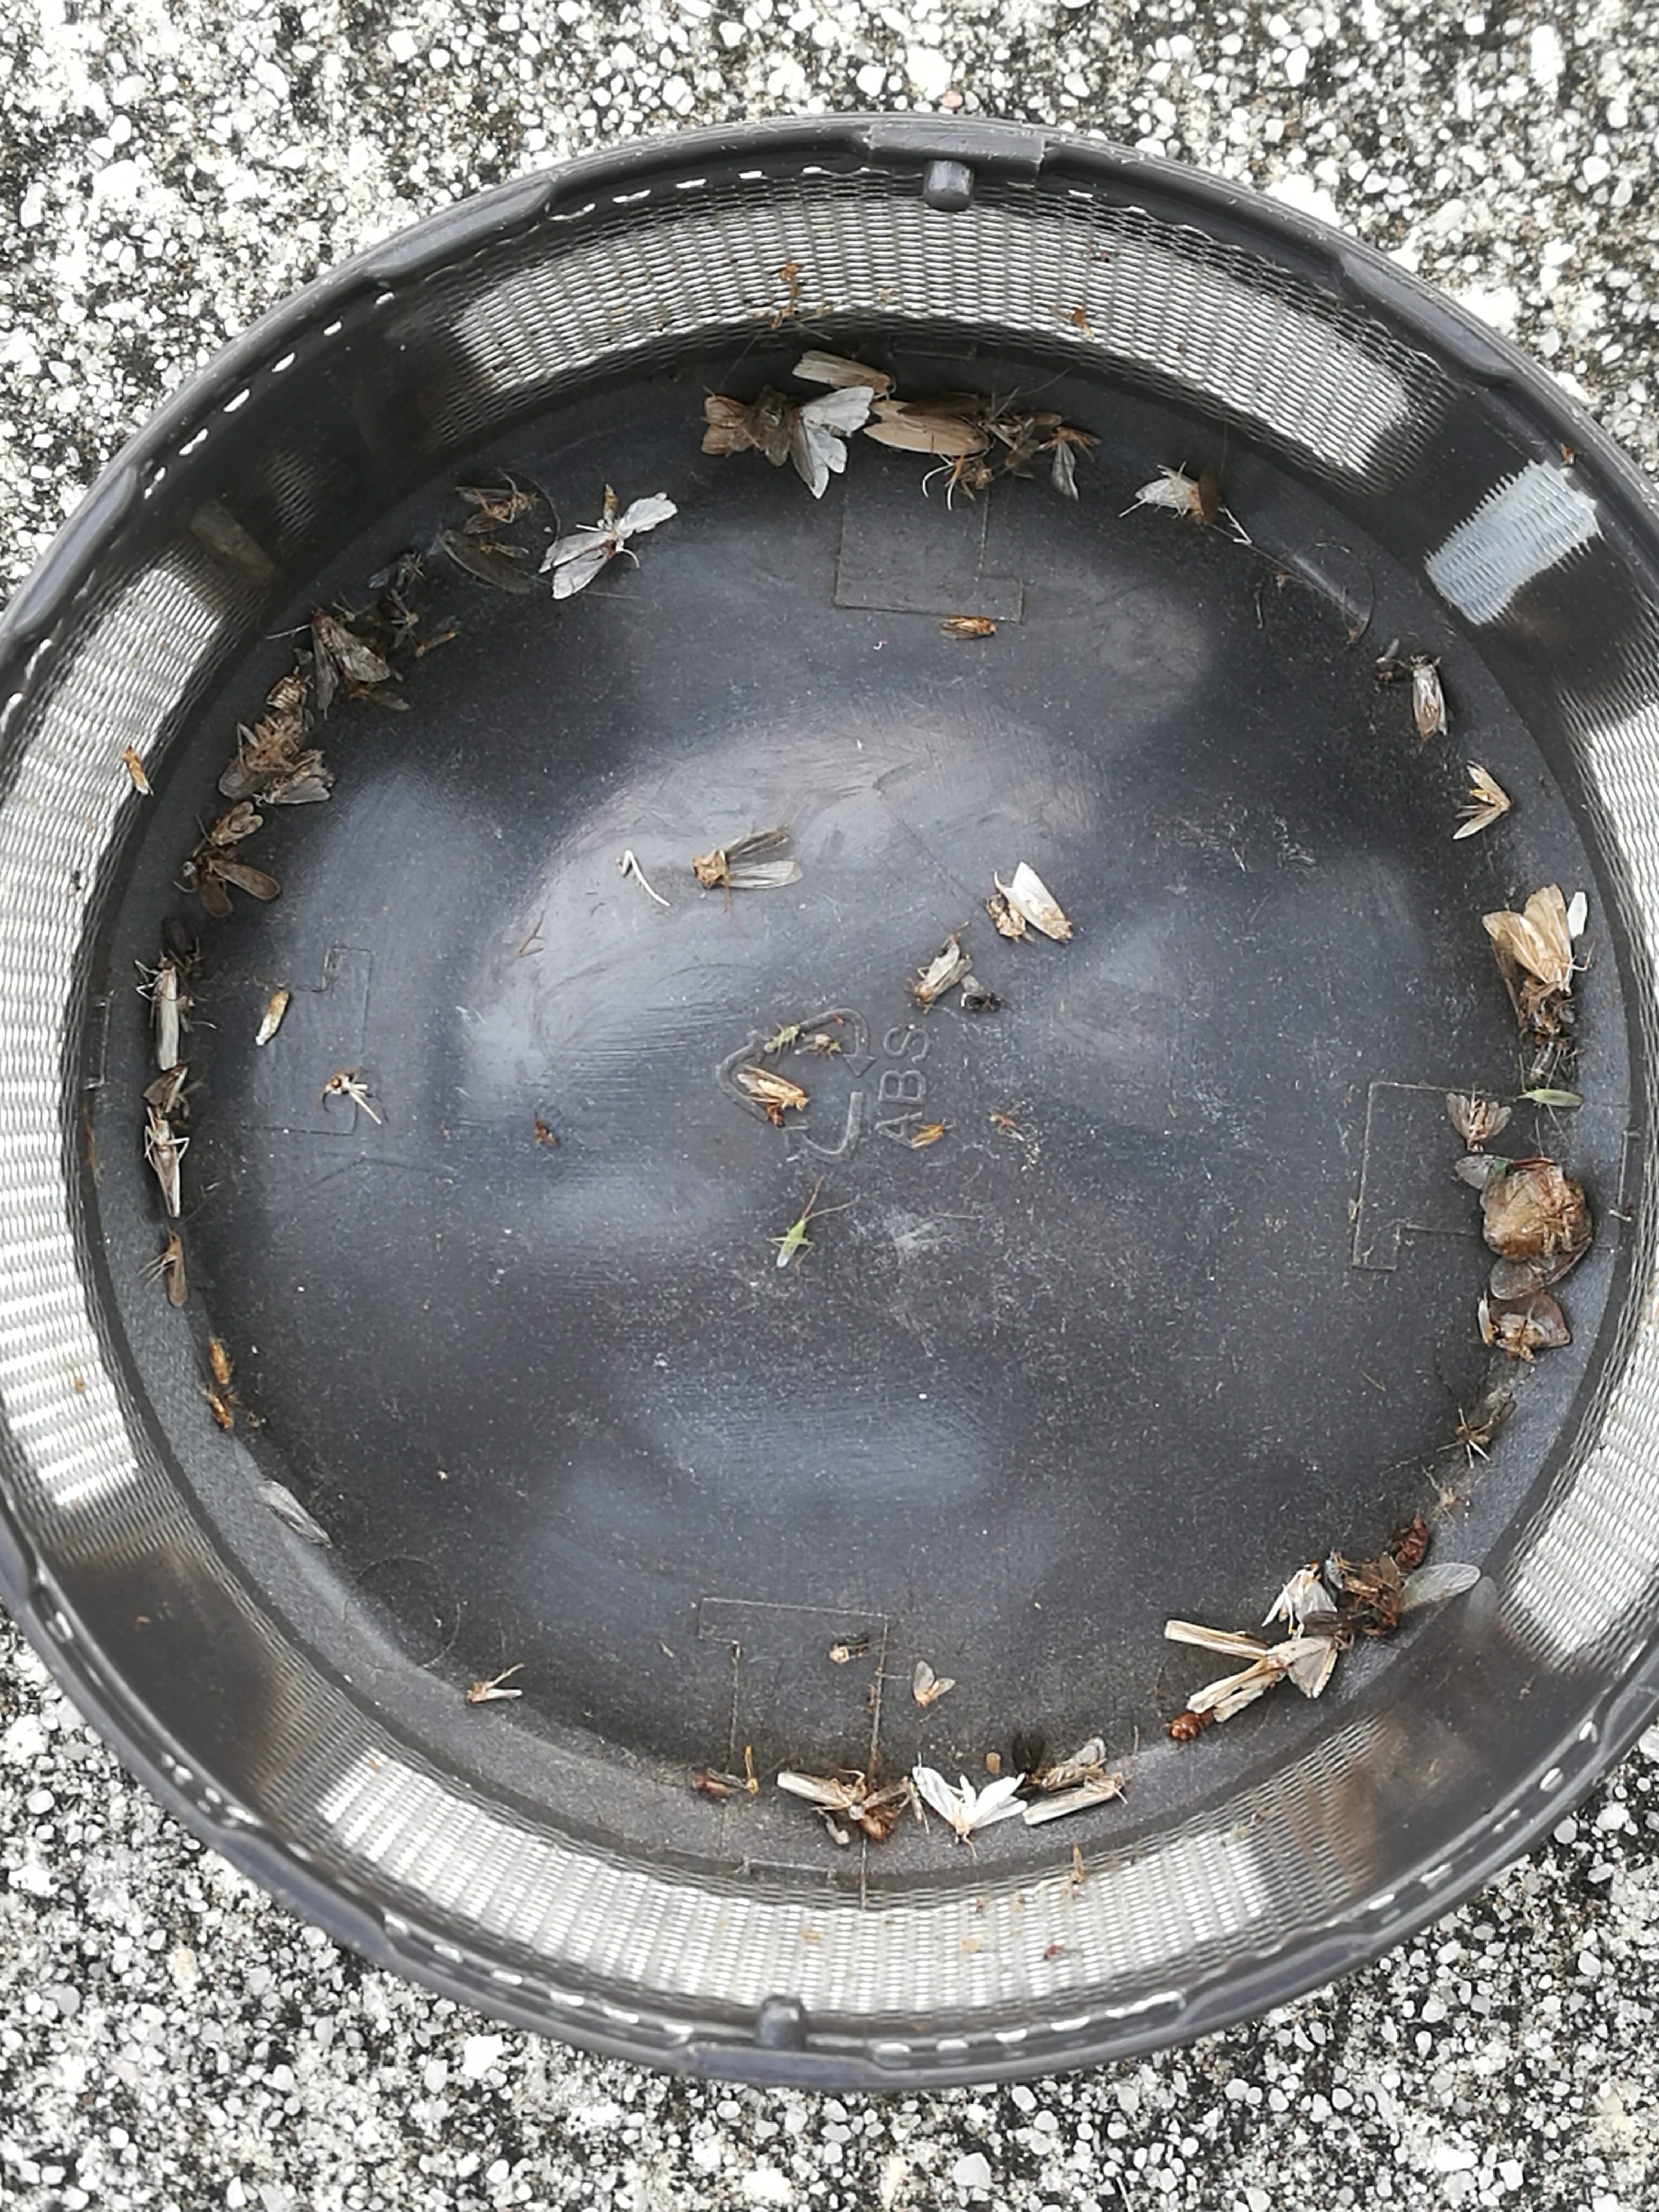beetle: (1481, 1158, 1588, 1263)
mosquito: (1026, 1780, 1122, 1822), (917, 937, 972, 1003), (739, 1064, 807, 1111), (775, 1771, 863, 1808), (150, 1118, 181, 1216), (1042, 1740, 1103, 1789), (153, 961, 179, 1068), (1413, 655, 1446, 738), (166, 1231, 185, 1306), (465, 1686, 525, 1702)
moth: (540, 486, 676, 599), (1483, 883, 1572, 993), (791, 385, 875, 496), (314, 610, 389, 709), (913, 1768, 1025, 1832), (995, 862, 1072, 942), (1267, 1634, 1338, 1700), (1262, 1564, 1337, 1625), (258, 751, 336, 805), (1490, 1296, 1568, 1346), (453, 484, 532, 531), (1445, 1094, 1513, 1141), (701, 397, 755, 455), (1134, 463, 1199, 509), (760, 385, 791, 463), (913, 1662, 953, 1705)
